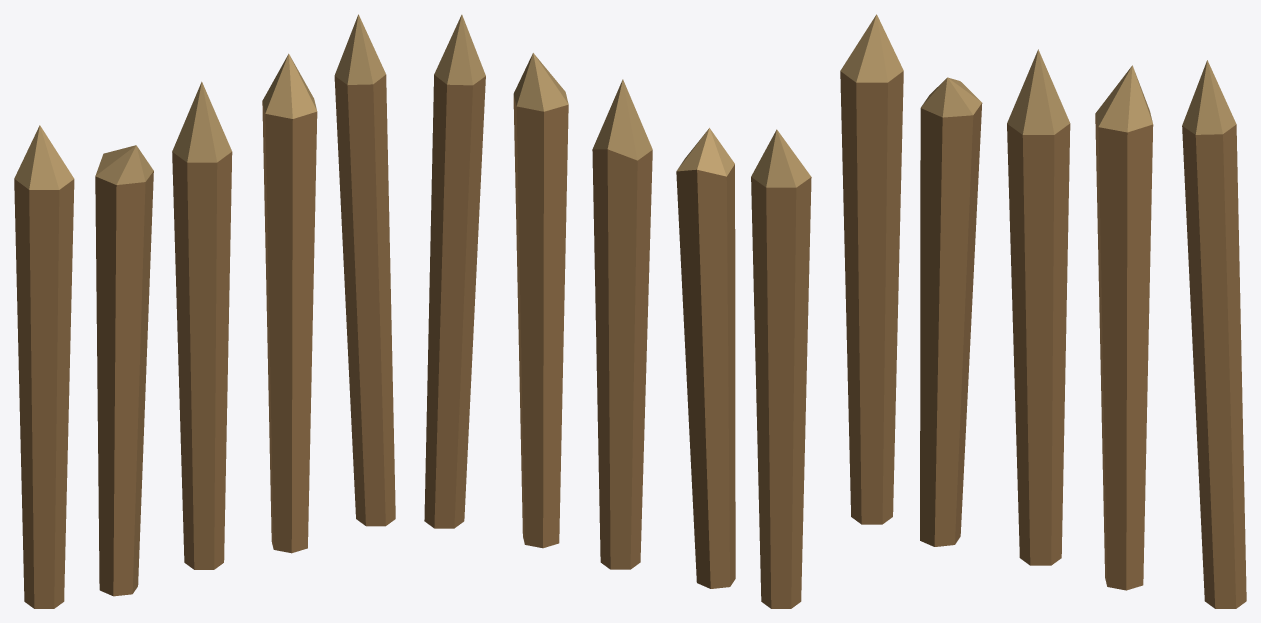
File: stakes_01.fbx
3 views of the same model, side by side, from view 1: azimuth 30°, elevation 25°; view 2: azimuth 150°, elevation 25°; view 3: azimuth 330°, elevation 25° (orthographic). The views are drawn at different scales.
Parts seen in each view (by area): view 1: stakes_01; view 2: stakes_01; view 3: stakes_01.
Part boxes in pixels (x1,y1,x2,y2): stakes_01: [14, 14, 395, 608]; stakes_01: [424, 14, 811, 608]; stakes_01: [840, 14, 1246, 608].
Size of the model in its own units: 185 by 243 by 27.83.
